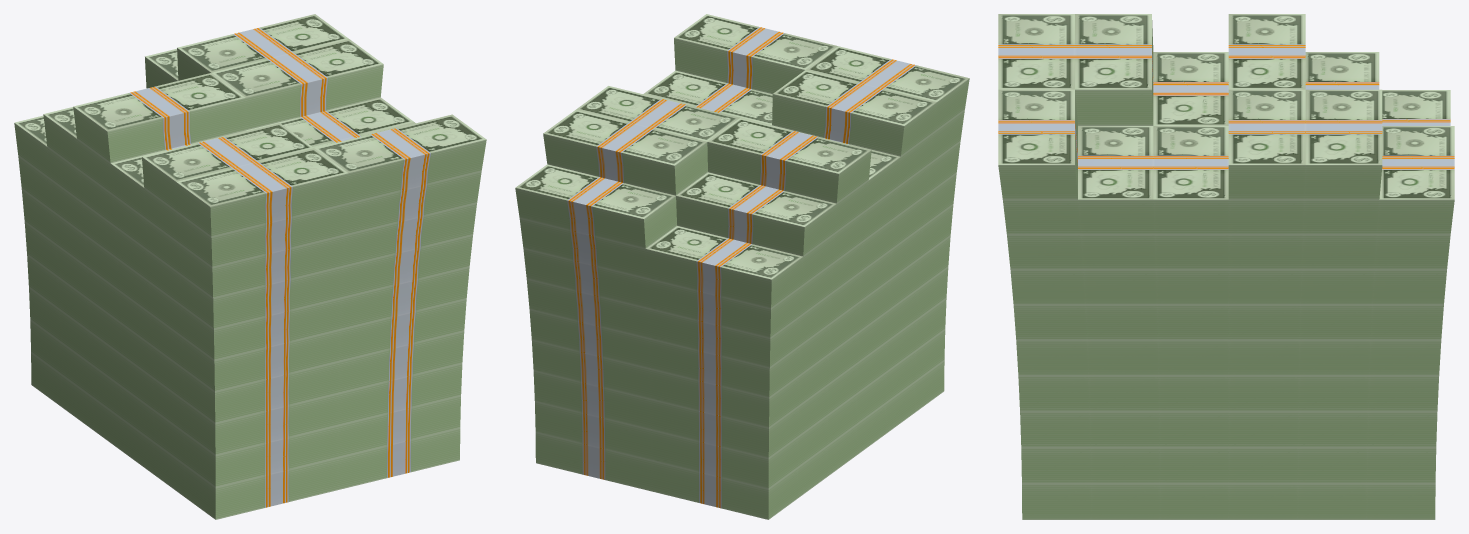
File: BankMoney01_3.FBX
The picture shows the model from 3 angles, left to right: view 1: azimuth 30°, elevation 25°; view 2: azimuth 150°, elevation 25°; view 3: azimuth 270°, elevation 25°; orthographic projection. The views are drawn at different scales.
Visible parts, largest first — view 1: BankMoney01_3; view 2: BankMoney01_3; view 3: BankMoney01_3.
Part boxes in pixels (x1=…): BankMoney01_3: x1=14, y1=14, x2=486, y2=519; BankMoney01_3: x1=515, y1=14, x2=969, y2=519; BankMoney01_3: x1=998, y1=14, x2=1454, y2=519.
Size of what is drawn, in the model's own units: 0.4451 by 0.5 by 0.5688.
